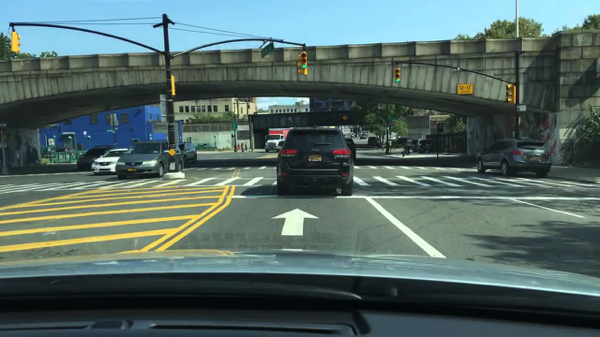car: (277, 126, 353, 197), (475, 138, 552, 178), (116, 140, 170, 180), (91, 147, 129, 176), (76, 145, 114, 171), (166, 144, 184, 172), (178, 142, 198, 165), (344, 138, 357, 165), (418, 139, 431, 154), (408, 139, 420, 153), (368, 137, 380, 146), (195, 142, 208, 149), (359, 132, 368, 140), (56, 147, 70, 152), (350, 132, 355, 138)
person: (403, 140, 410, 155), (381, 139, 384, 152), (241, 142, 244, 153), (245, 142, 248, 152), (237, 142, 240, 151)
traffic light: (11, 31, 21, 53), (506, 84, 516, 105), (301, 51, 307, 75), (296, 54, 302, 75), (395, 67, 401, 83), (171, 75, 175, 97), (513, 116, 521, 127), (3, 135, 9, 141)
traffic sign: (260, 43, 275, 59), (160, 93, 168, 123), (456, 83, 474, 96), (0, 122, 9, 129), (517, 106, 527, 112), (232, 122, 237, 131), (0, 142, 7, 148), (343, 115, 347, 120)
truck: (265, 128, 291, 153)
